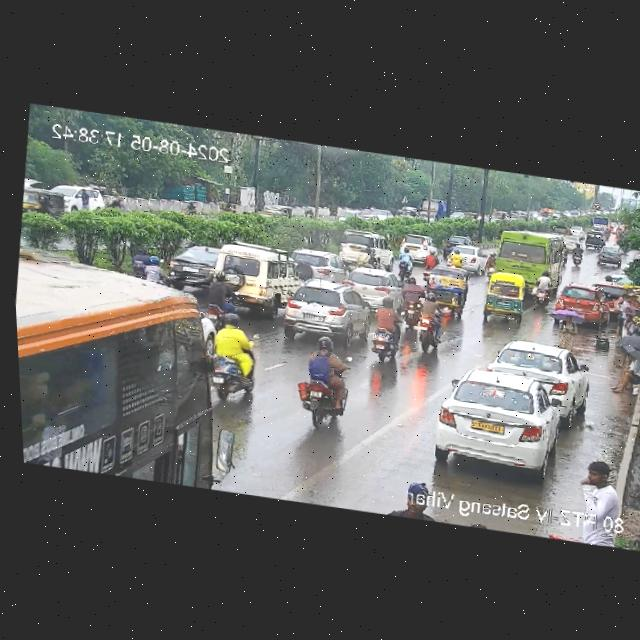bus: (13, 251, 217, 486), (480, 222, 571, 286)
car: (424, 365, 579, 477), (175, 239, 300, 309), (274, 275, 375, 346), (484, 336, 586, 406), (476, 268, 536, 323), (422, 266, 468, 314), (340, 263, 398, 301), (553, 284, 610, 321), (55, 180, 107, 217), (291, 247, 343, 282), (439, 241, 485, 273), (20, 187, 63, 219), (396, 232, 436, 261), (253, 200, 294, 221), (591, 244, 621, 268), (334, 205, 362, 227), (444, 234, 474, 248), (582, 231, 605, 249), (369, 206, 393, 223)
motorcycle: (291, 337, 355, 424), (203, 313, 260, 402), (366, 301, 407, 366), (194, 274, 244, 326), (412, 299, 447, 355), (396, 276, 426, 326), (138, 256, 172, 288), (527, 272, 555, 310), (417, 248, 440, 282), (396, 247, 417, 277), (447, 249, 466, 272), (183, 196, 203, 217), (570, 245, 585, 267), (303, 207, 315, 222)
person: (570, 458, 623, 518), (389, 480, 447, 522), (606, 346, 640, 394), (549, 310, 584, 353), (615, 312, 640, 342)
truck: (334, 229, 397, 272), (416, 196, 451, 226)
